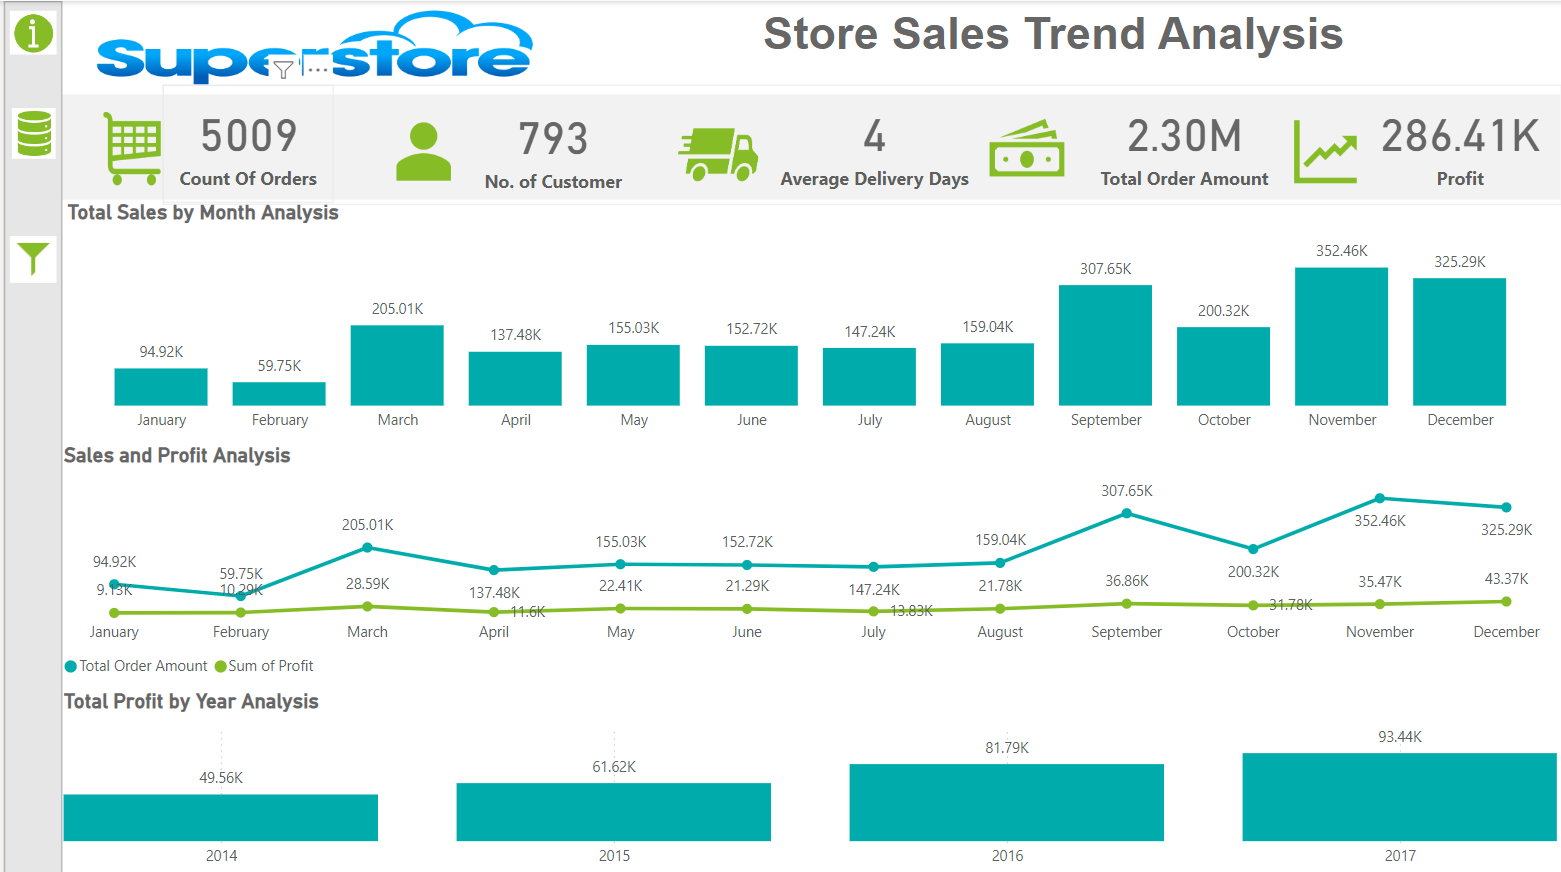

Layout of this report page (visuals, bound fields, positions):
{"tool":"powerbi","page":{"name":"Store Sales Analysis","canvas":[1280,720],"ordinal":2},"visuals":[{"type":"shape","title":"Rectangle","box":[0,0,47.9,720],"z":0,"group":"g3"},{"type":"group","id":"g1","title":"Sales Analysis Group","box":[43.9,0,1236.6,564.9],"z":0},{"type":"textbox","title":"Text Box of Sales ","box":[446.8,0,831.3,68.5],"z":0,"group":"g1"},{"type":"card","title":"Sum of Profit ","fields":{"Values":["Sum(Fact.Finance.Profit)"]},"box":[1112.4,68.8,166.7,96.1],"z":0,"group":"g2"},{"type":"group","id":"g2","title":"Cards","box":[130,68.8,1149.2,98.1],"z":1000},{"type":"card","title":"Sum Of Sales ","fields":{"Values":["Sum(Fact.Finance.Sales)"]},"box":[876.8,68.9,186,96.1],"z":1000,"group":"g2"},{"type":"image","title":"Funnel","box":[0,149.4,48.3,125.3],"z":1000,"group":"g3"},{"type":"lineChart","title":"Sales and Profit Analysis","fields":{"Category":["Dim.Date.Date.Variation.Date Hierarchy.Month"],"Y":["Sum(Fact.Finance.Sales)","Sum(Fact.Finance.Profit)"]},"box":[43.9,362.5,1236.6,202.3],"z":1000,"group":"g1"},{"type":"card","title":"Average Delivery Days ","fields":{"Values":["Dim.Order.Avergae Delivery Days"]},"box":[623.4,69.7,181.8,93.2],"z":2000,"group":"g2"},{"type":"clusteredColumnChart","title":"Total Sales by Month Analysis","fields":{"Y":["Fact.Finance.Total Sales Amount"],"Category":["Dim.Date.Date.Variation.Date Hierarchy.Month"]},"box":[46.7,163.5,1231.7,199.1],"z":2000,"group":"g1"},{"type":"clusteredColumnChart","title":"Total Profit by Year Analysis","fields":{"Y":["Sum(Fact.Finance.Profit)"],"Category":["Dim.Date.Date.Variation.Date Hierarchy.Year1"]},"box":[43.7,564.9,1236.6,155.4],"z":2000},{"type":"group","id":"g3","title":"Filter Button","box":[0,0,48.3,720],"z":3000},{"type":"card","title":"No. Of Orders","fields":{"Values":["Count(Fact.Finance.OrderKey)"]},"box":[130,68.9,140.5,96.1],"z":3000,"group":"g2"},{"type":"card","title":"No. Of Customers","fields":{"Values":["Count(Fact.Finance.CustomerKey)"]},"box":[368.6,70.4,165.3,96.1],"z":4000,"group":"g2"},{"type":"image","title":"Information Button","box":[0,0,48.3,51.3],"z":5000},{"type":"image","title":"Dataset Layout Button","box":[0,83,48.7,51.4],"z":6000}]}

Visuals, with their boxes on the page's 1280x720 design canvas (x1, y1, x2, y2). These are canvas units, not pixel positions in the 1561x872 screenshot, which may show the page scaled, cropped or inside an application window:
"Rectangle" shape: locate(0, 0, 48, 720)
"Sales Analysis Group" group: locate(44, 0, 1280, 565)
"Text Box of Sales " textbox: locate(447, 0, 1278, 68)
"Sum of Profit " card: locate(1112, 69, 1279, 165)
"Cards" group: locate(130, 69, 1279, 167)
"Sum Of Sales " card: locate(877, 69, 1063, 165)
"Funnel" image: locate(0, 149, 48, 275)
"Sales and Profit Analysis" lineChart: locate(44, 362, 1280, 565)
"Average Delivery Days " card: locate(623, 70, 805, 163)
"Total Sales by Month Analysis" clusteredColumnChart: locate(47, 164, 1278, 363)
"Total Profit by Year Analysis" clusteredColumnChart: locate(44, 565, 1280, 720)
"Filter Button" group: locate(0, 0, 48, 720)
"No. Of Orders" card: locate(130, 69, 270, 165)
"No. Of Customers" card: locate(369, 70, 534, 166)
"Information Button" image: locate(0, 0, 48, 51)
"Dataset Layout Button" image: locate(0, 83, 49, 134)
